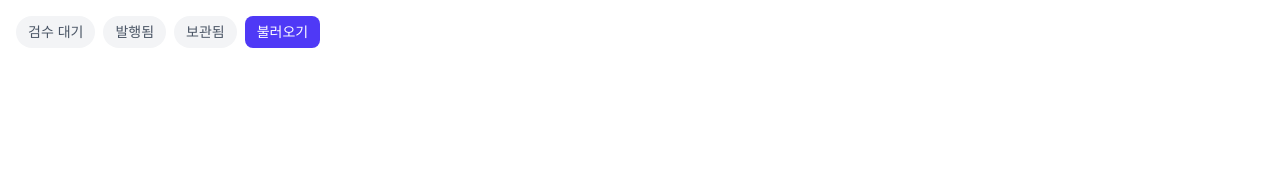
Test: SpotNoticesPanel › 불러오기를 누르면 검수 대기(pending) 목록을 조회한다
Step 1. Click the button "불러오기" → click(282, 32), box [245,16,320,48]
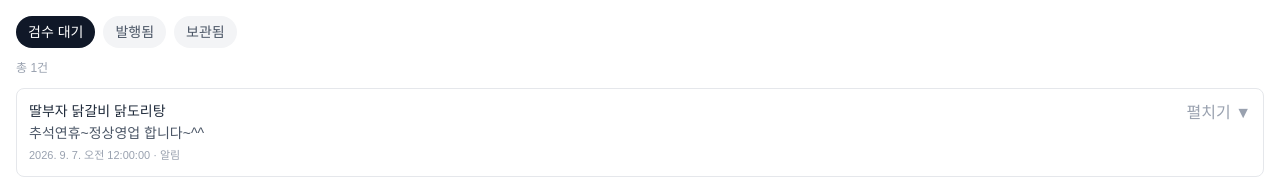
Now the text "딸부자 닭갈비 닭도리탕" is shown, box [29,103,166,119]
Now the text "추석연휴~정상영업 합니다~^^" is shown, box [29,125,204,141]
